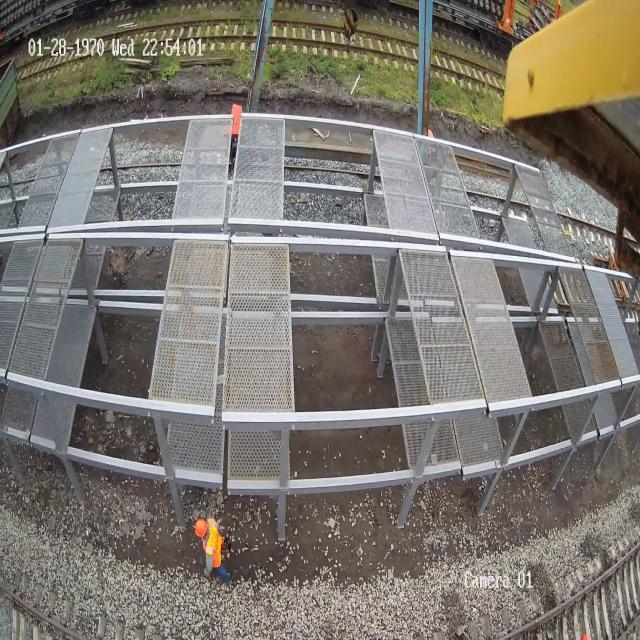Helmet: (195, 518, 207, 537)
Person: (194, 517, 232, 581)
